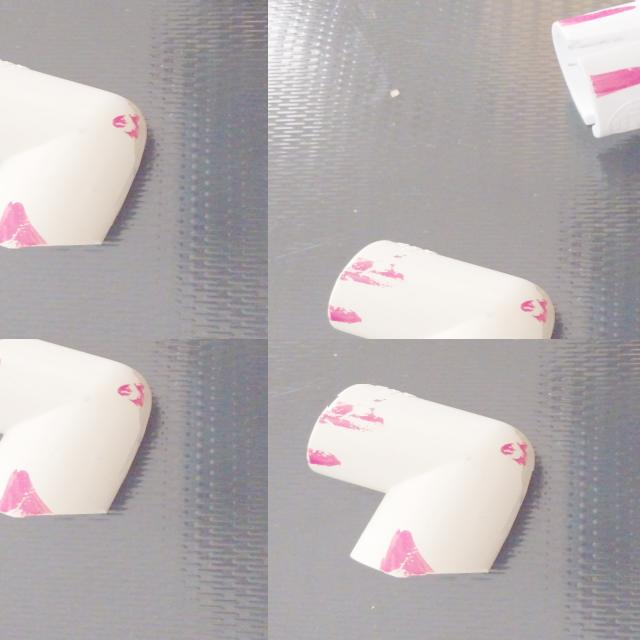Defective: (52, 244, 134, 302), (15, 295, 97, 339), (384, 516, 426, 584), (328, 396, 393, 439), (23, 0, 121, 27), (302, 443, 358, 480), (489, 442, 545, 472), (313, 0, 349, 22)
L Joint: (307, 385, 537, 579), (0, 226, 155, 339)
T Joint: (268, 0, 355, 51)
